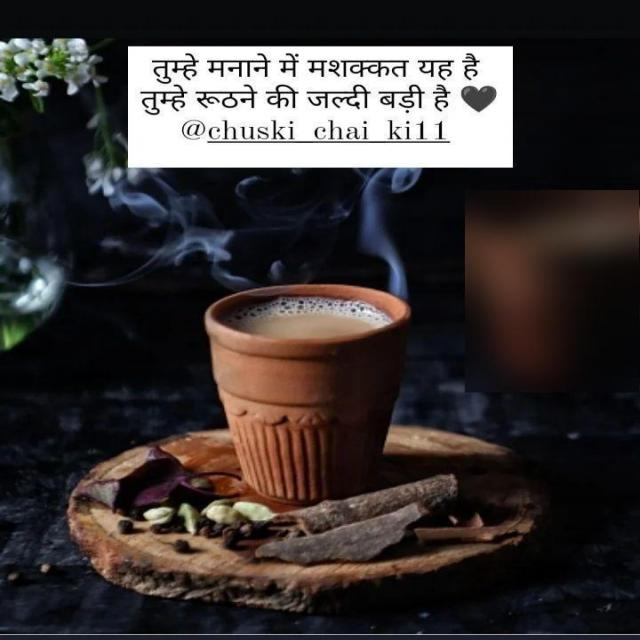cup-disposable: (205, 280, 418, 510)
